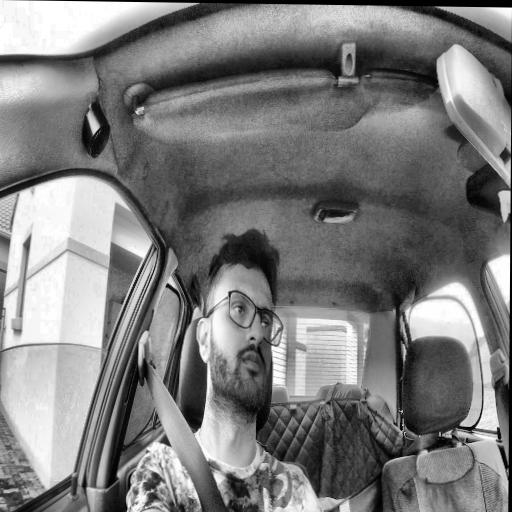awake: (196, 227, 285, 417)
